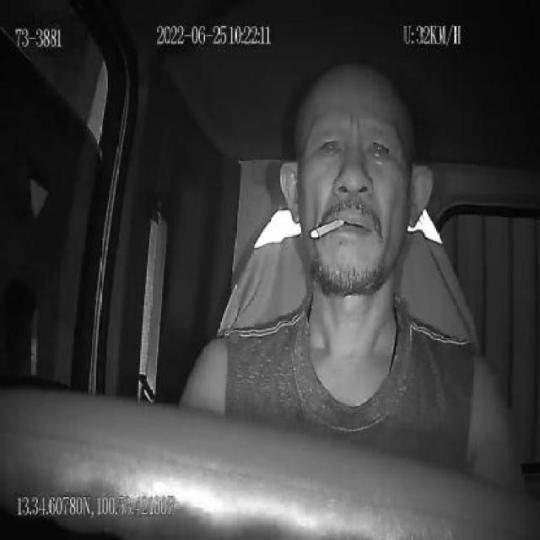smoking: (310, 217, 344, 240)
